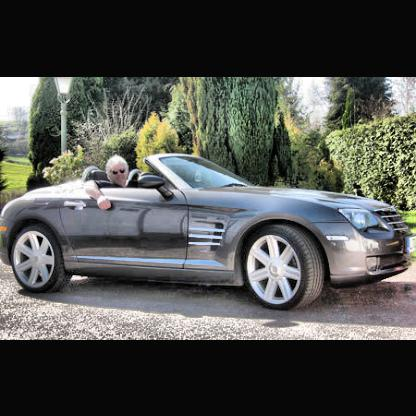Chrysler Crossfire Convertible 2008: (4, 149, 416, 314)
